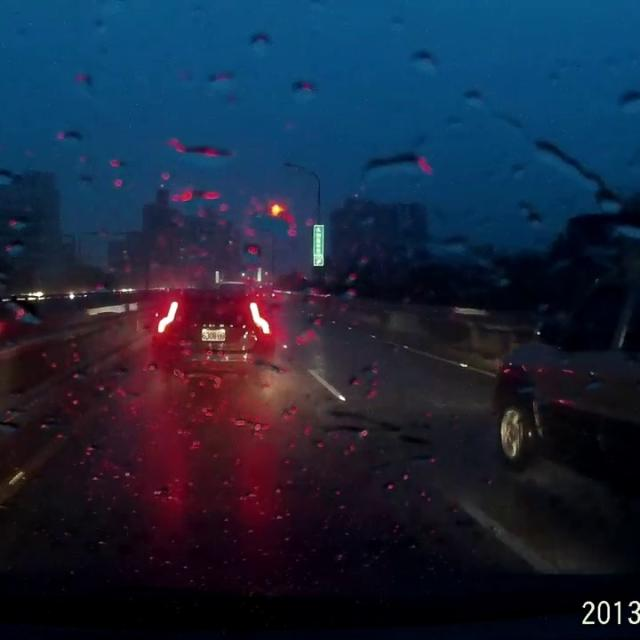Car: (490, 231, 639, 481), (146, 282, 273, 371)
